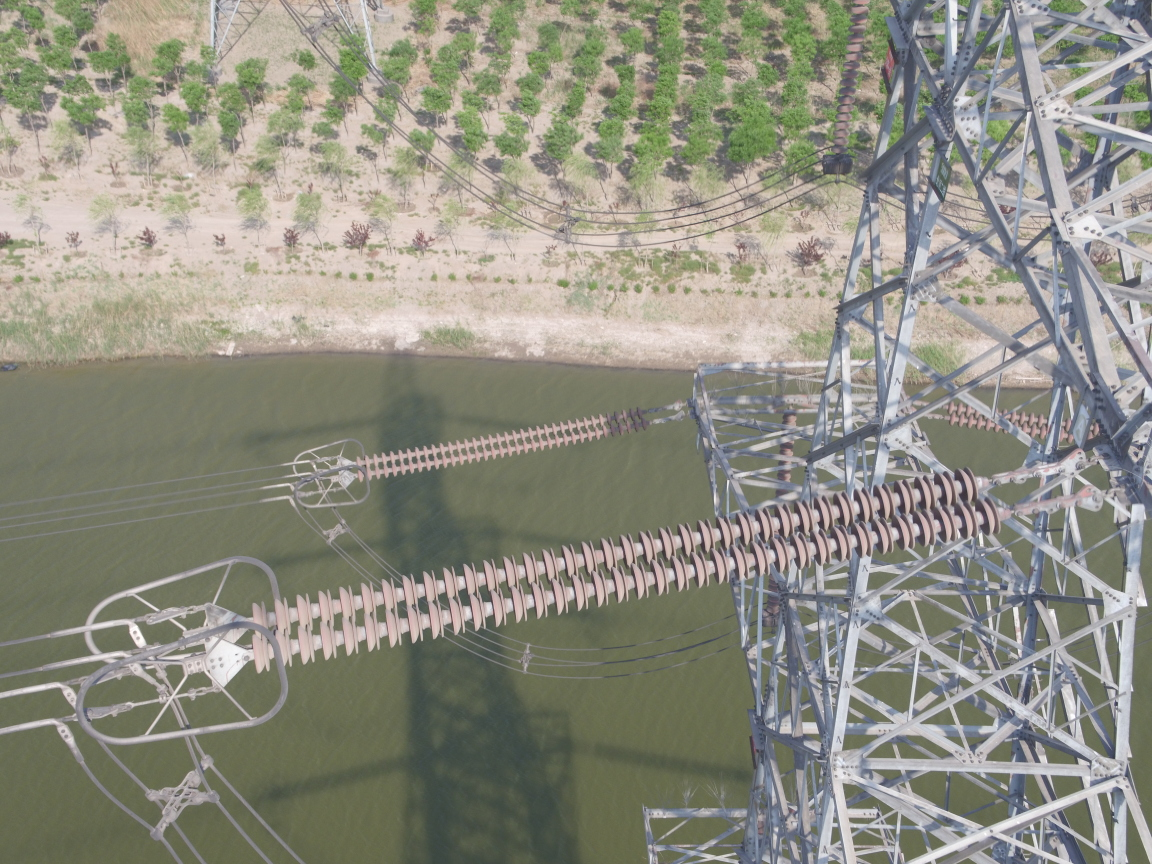insulator: (236, 464, 1033, 677), (354, 402, 661, 483)
